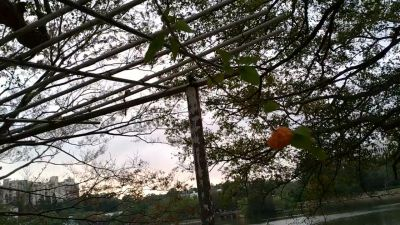eggs: (269, 127, 294, 151)
